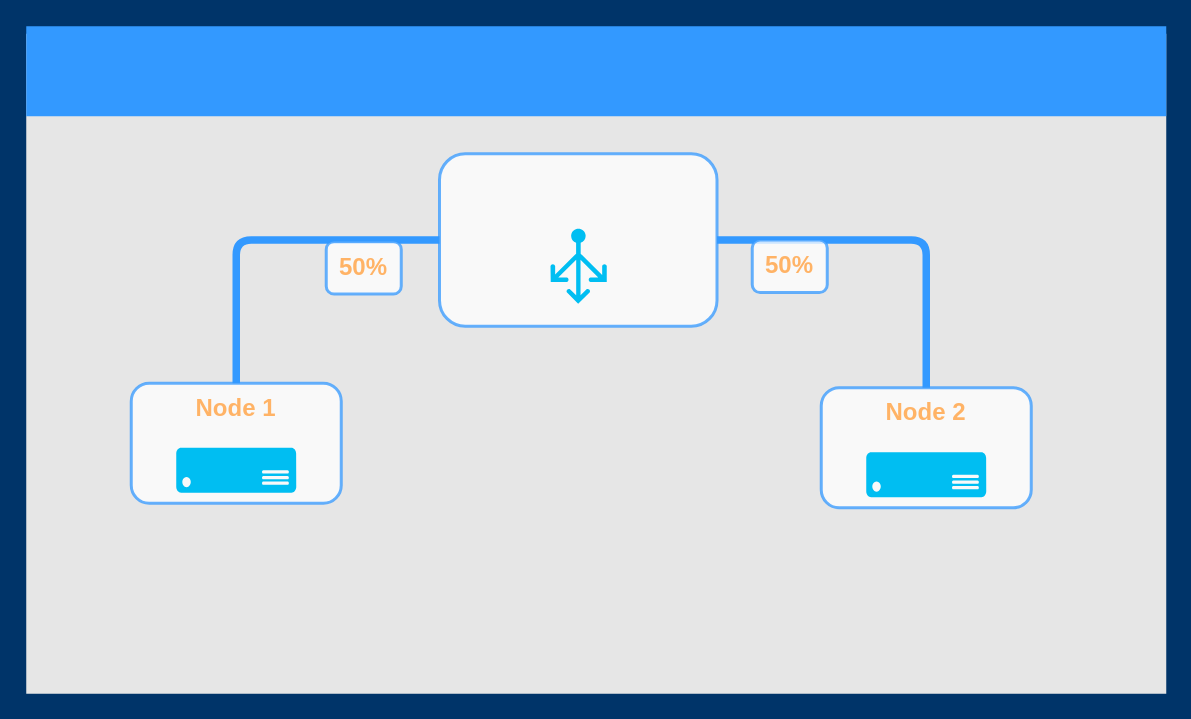
Image size: 1191x719. Some labels were removed from this diagram. Each missing label, with the box of its shape:
Active - Active 2 Nodes Cluster: (26, 26, 1166, 116)
Virtual IP Load Balancer: (437, 152, 718, 327)
